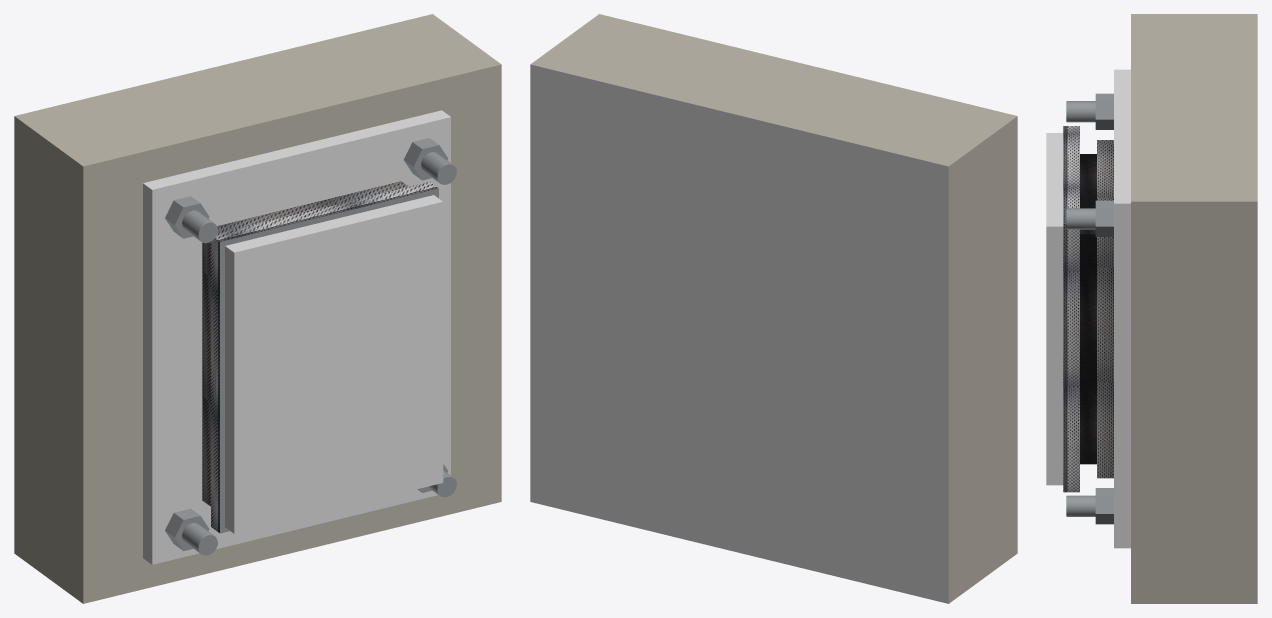
Rendered from bearing_14.obj.
3 views of the same model, side by side, from view 1: azimuth 30°, elevation 25°; view 2: azimuth 150°, elevation 25°; view 3: azimuth 270°, elevation 25° (orthographic). The views are drawn at different scales.
Visible parts, largest first — view 1: _8, Color_001, _2, Metal_Rough; view 2: Color_001, _8; view 3: _8, Color_001, _2, _5, Metal_Rough.
Part boxes in pixels (bbox=[...]): _8: bbox=[14, 14, 501, 603]; Color_001: bbox=[143, 110, 450, 564]; _2: bbox=[202, 181, 438, 532]; Metal_Rough: bbox=[165, 138, 456, 555]; Color_001: bbox=[530, 64, 948, 603]; _8: bbox=[530, 14, 1017, 603]; _8: bbox=[1131, 14, 1257, 603]; Color_001: bbox=[1046, 69, 1130, 548]; _2: bbox=[1063, 126, 1113, 492]; _5: bbox=[1080, 154, 1096, 464]; Metal_Rough: bbox=[1066, 93, 1113, 524].
Size of the model in its own units: 0.757 by 0.7564 by 0.3602.
